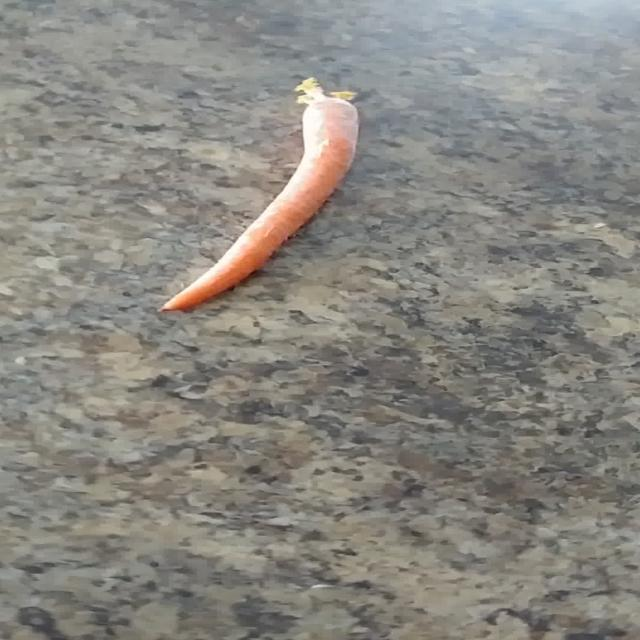carrot: (162, 79, 358, 311)
